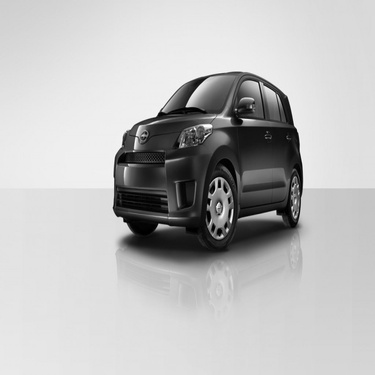car: (105, 68, 312, 254)
